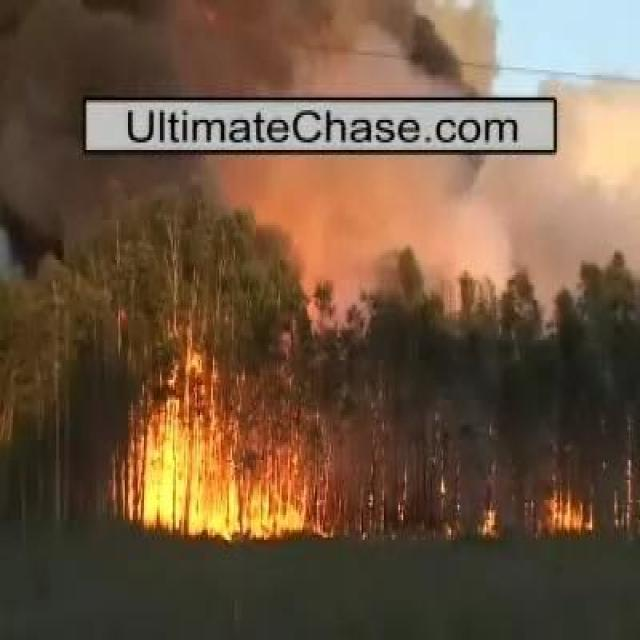Fire: (136, 439, 243, 531)
Smoke: (266, 162, 594, 266)
